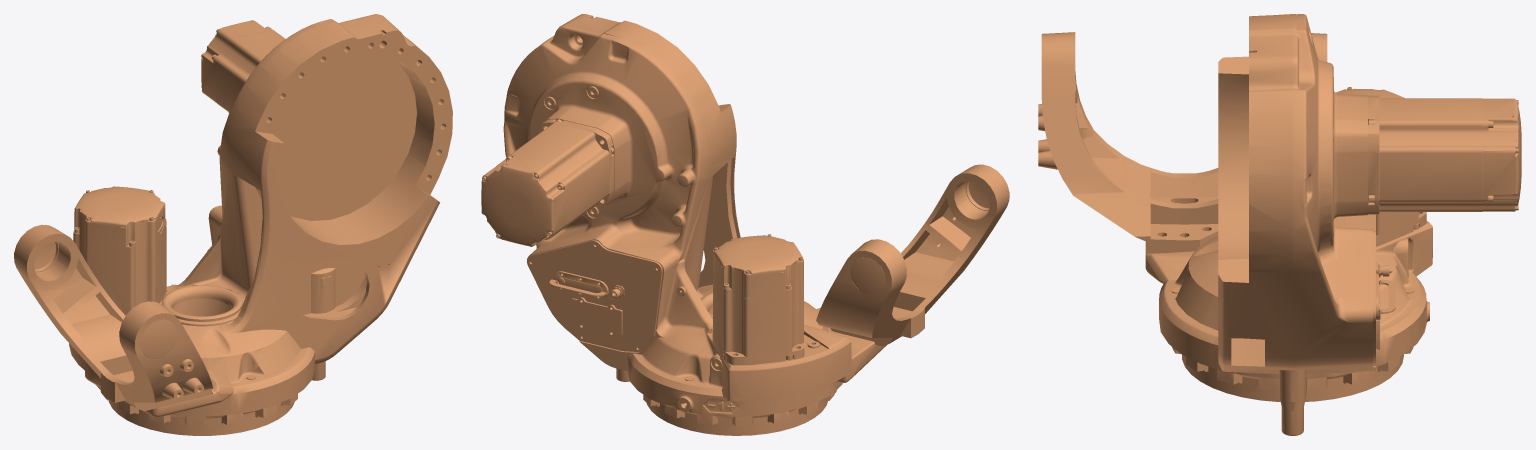
3 views of the same model, side by side, from view 1: azimuth 30°, elevation 25°; view 2: azimuth 150°, elevation 25°; view 3: azimuth 270°, elevation 25° (orthographic). The views are drawn at different scales.
Parts seen in each view (by area): view 1: link_1; view 2: link_1; view 3: link_1.
Boxes of the visible parts, x1,y1,x2,y2 form: link_1: [14, 14, 452, 435]; link_1: [481, 14, 1009, 435]; link_1: [1038, 14, 1521, 435].
Bounding box in the file's own units: 1 × 0.866 × 0.8199.
